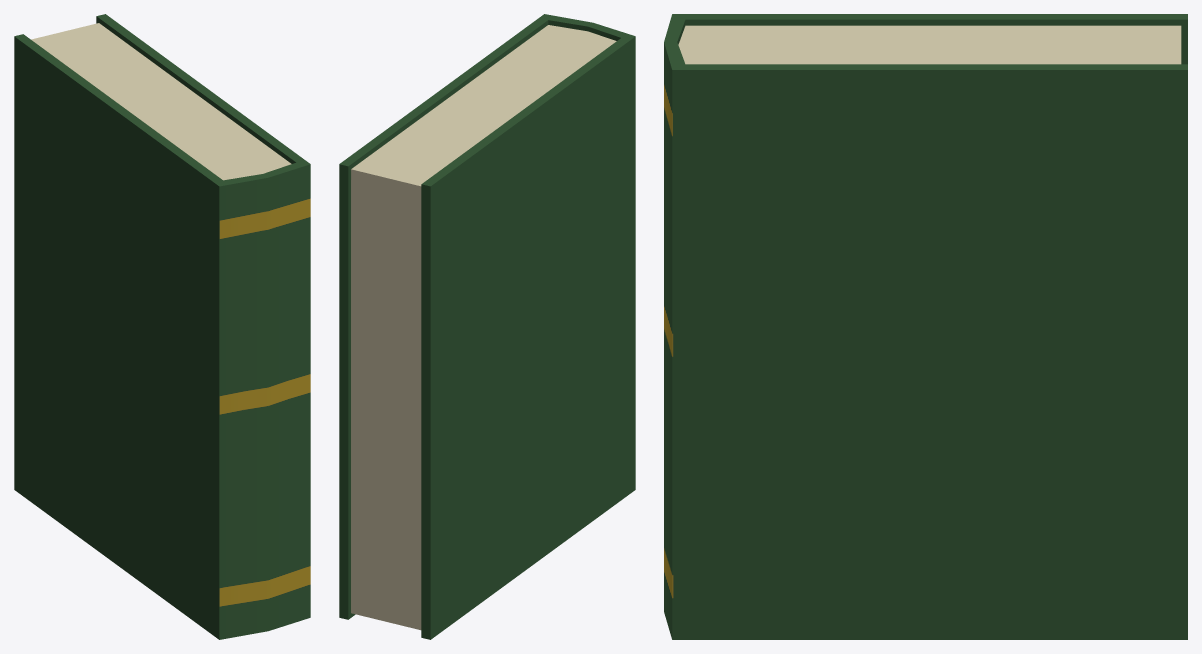
The model's file is book3.fbx.
The picture shows the model from 3 angles, left to right: view 1: azimuth 30°, elevation 25°; view 2: azimuth 150°, elevation 25°; view 3: azimuth 270°, elevation 25°; orthographic projection. The views are drawn at different scales.
Parts seen in each view (by area): view 1: Book3; view 2: Book3; view 3: Book3.
Boxes of the visible parts, x1,y1,x2,y2 form: Book3: (14, 14, 310, 639); Book3: (339, 14, 635, 639); Book3: (664, 14, 1187, 639).
Size of the model in its own units: 50 by 237 by 198.
1 material, 1 textured.
